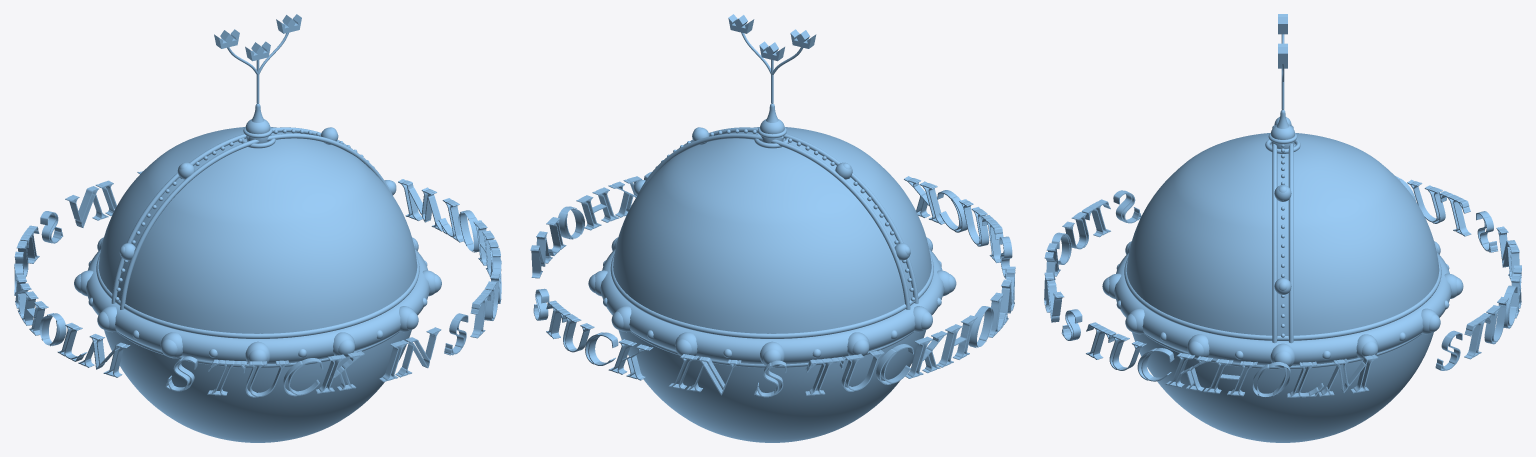
Rendered from globee.glb.
The picture shows the model from 3 angles, left to right: view 1: azimuth 30°, elevation 25°; view 2: azimuth 150°, elevation 25°; view 3: azimuth 270°, elevation 25°; orthographic projection.
Parts seen in each view (by area): view 1: BLOBBI part 02, Raven Live Script preview (×8), BLOBBI part 06, BLOBBI part 04, BLOBBI part 03, BLOBBI part 05, BLOBBI part 07; view 2: BLOBBI part 02, Raven Live Script preview (×6), BLOBBI part 06, BLOBBI part 04, BLOBBI part 03, BLOBBI part 05, BLOBBI part 07; view 3: BLOBBI part 02, Raven Live Script preview (×10), BLOBBI part 06, BLOBBI part 04, BLOBBI part 03, BLOBBI part 05, BLOBBI part 07.
Boxes of the visible parts, bbox=[...] form: BLOBBI part 02: bbox=[98, 127, 417, 442]; Raven Live Script preview (×8): bbox=[14, 179, 501, 397]; BLOBBI part 06: bbox=[85, 127, 430, 367]; BLOBBI part 04: bbox=[80, 127, 435, 367]; BLOBBI part 03: bbox=[74, 127, 441, 366]; BLOBBI part 05: bbox=[88, 129, 427, 357]; BLOBBI part 07: bbox=[241, 119, 275, 148]; BLOBBI part 02: bbox=[613, 127, 931, 442]; Raven Live Script preview (×6): bbox=[530, 172, 1015, 397]; BLOBBI part 06: bbox=[600, 127, 944, 367]; BLOBBI part 04: bbox=[595, 127, 949, 367]; BLOBBI part 03: bbox=[588, 127, 956, 367]; BLOBBI part 05: bbox=[603, 129, 941, 357]; BLOBBI part 07: bbox=[754, 119, 788, 148]; BLOBBI part 02: bbox=[1126, 133, 1439, 442]; Raven Live Script preview (×10): bbox=[1044, 176, 1521, 397]; BLOBBI part 06: bbox=[1114, 125, 1451, 369]; BLOBBI part 04: bbox=[1109, 117, 1456, 368]; BLOBBI part 03: bbox=[1102, 117, 1463, 368]; BLOBBI part 05: bbox=[1116, 144, 1449, 359]; BLOBBI part 07: bbox=[1265, 125, 1300, 153].
Size of the model in its own units: 0.3124 by 0.2895 by 0.3124.
